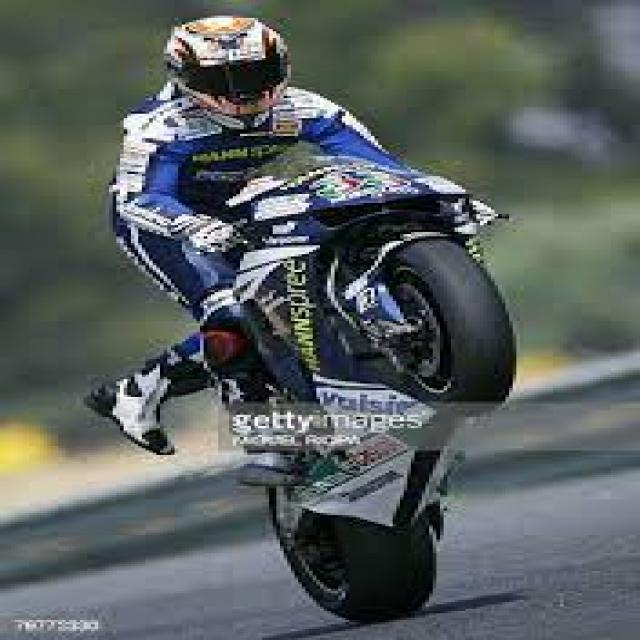Wheeling: (94, 14, 522, 620)
